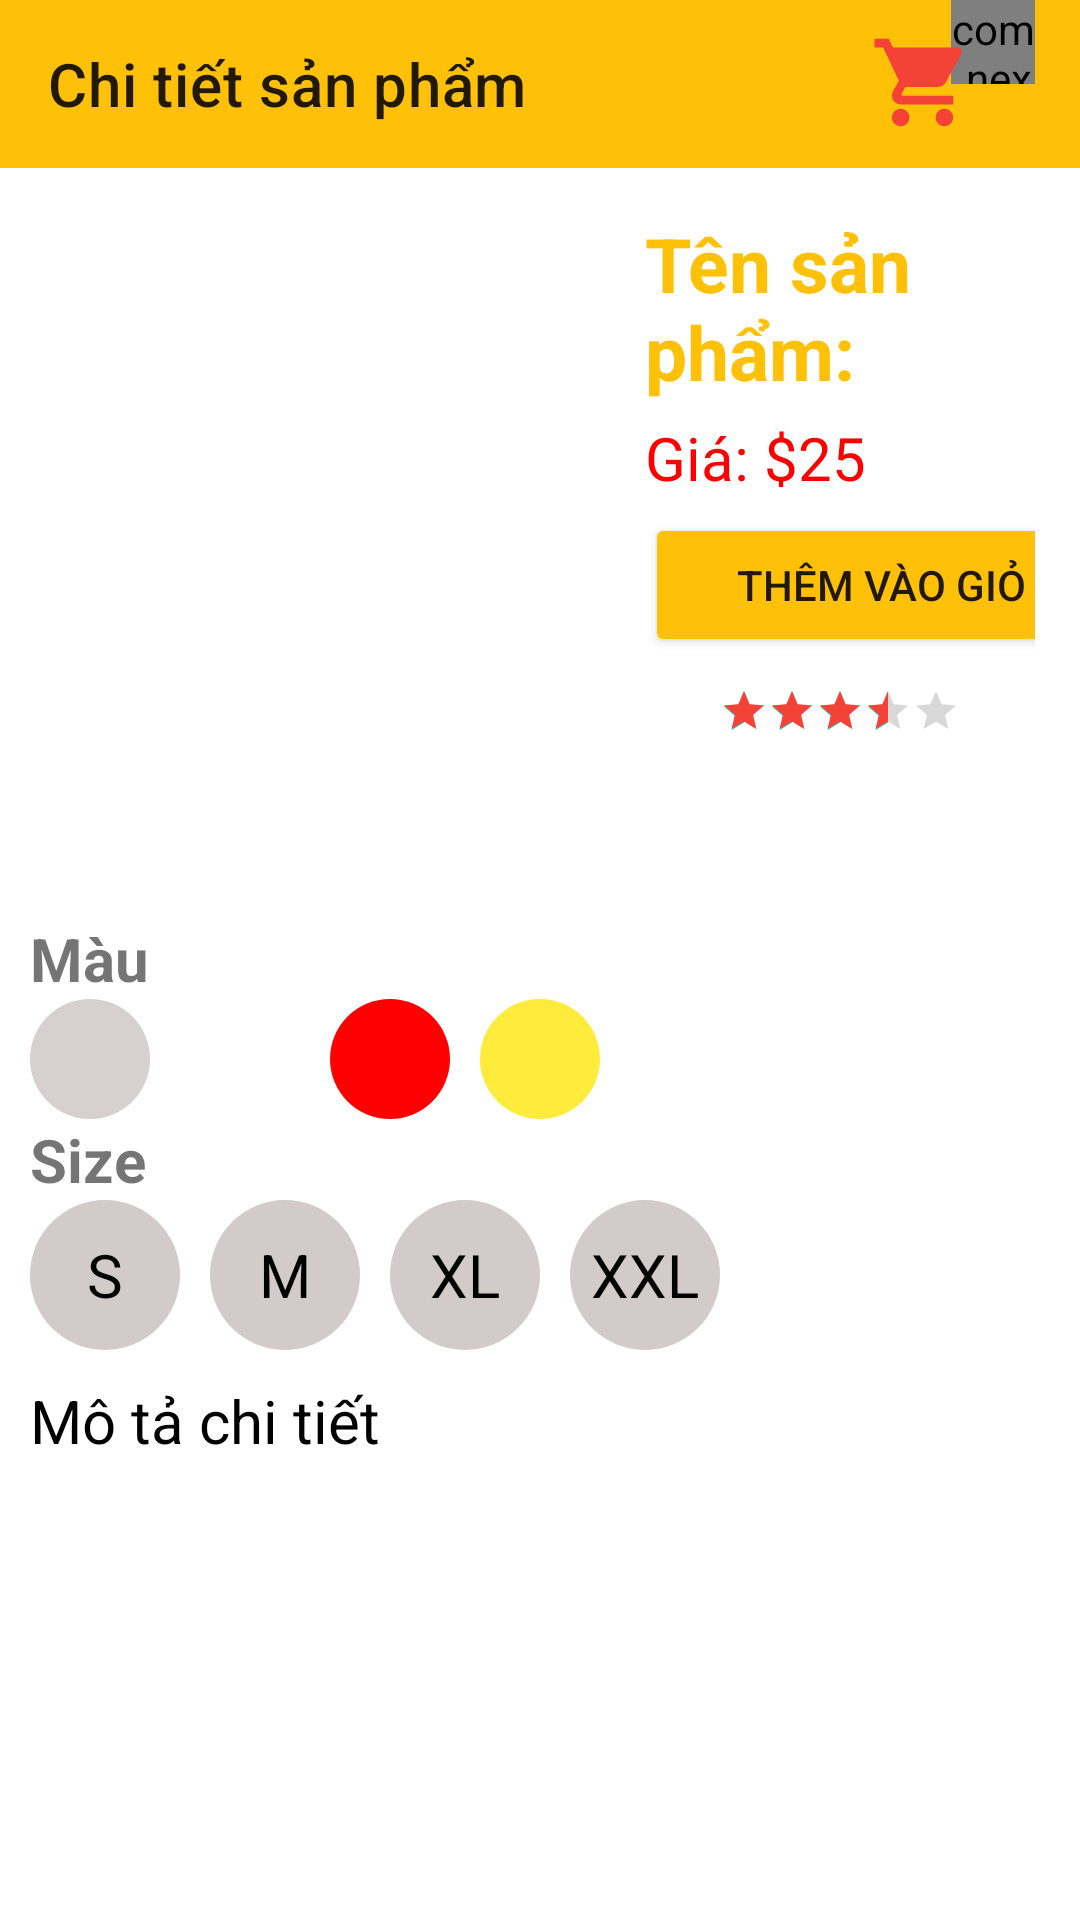

Point at icon controls on the screen. Image size 1080 × 1920, points as [x,y].
cart: [924,78]
